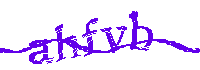a: (28, 39, 53, 65)
b: (129, 9, 154, 53)
f: (82, 15, 101, 59)
h: (55, 24, 79, 61)
v: (101, 26, 126, 54)
